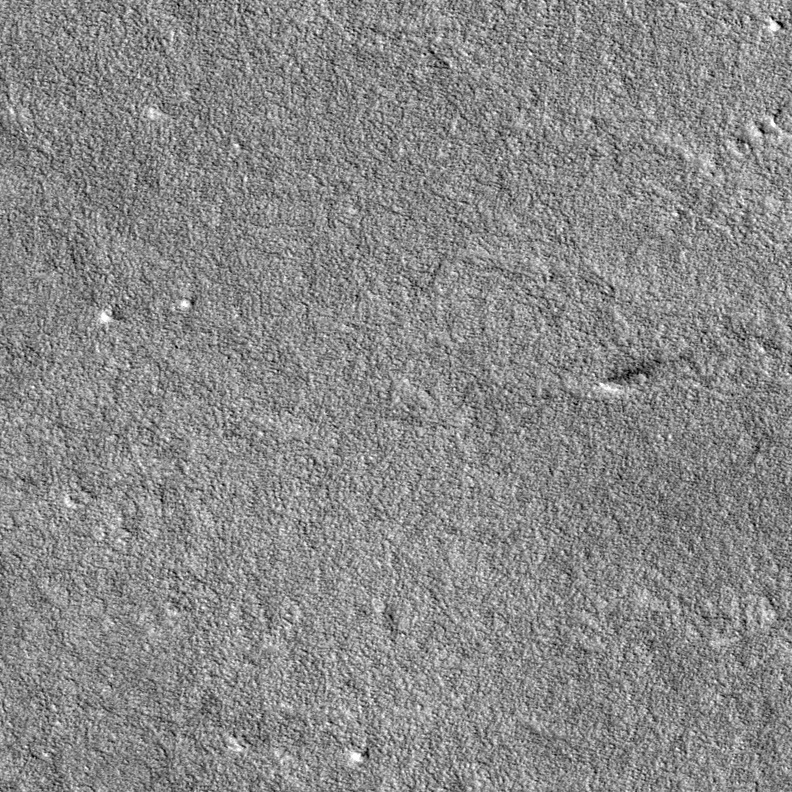dust_devil: (597, 358, 665, 397)
